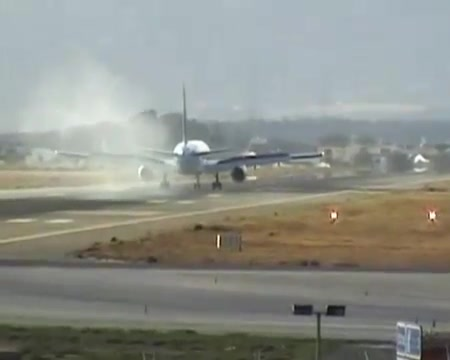aeroplane: (55, 81, 326, 192)
